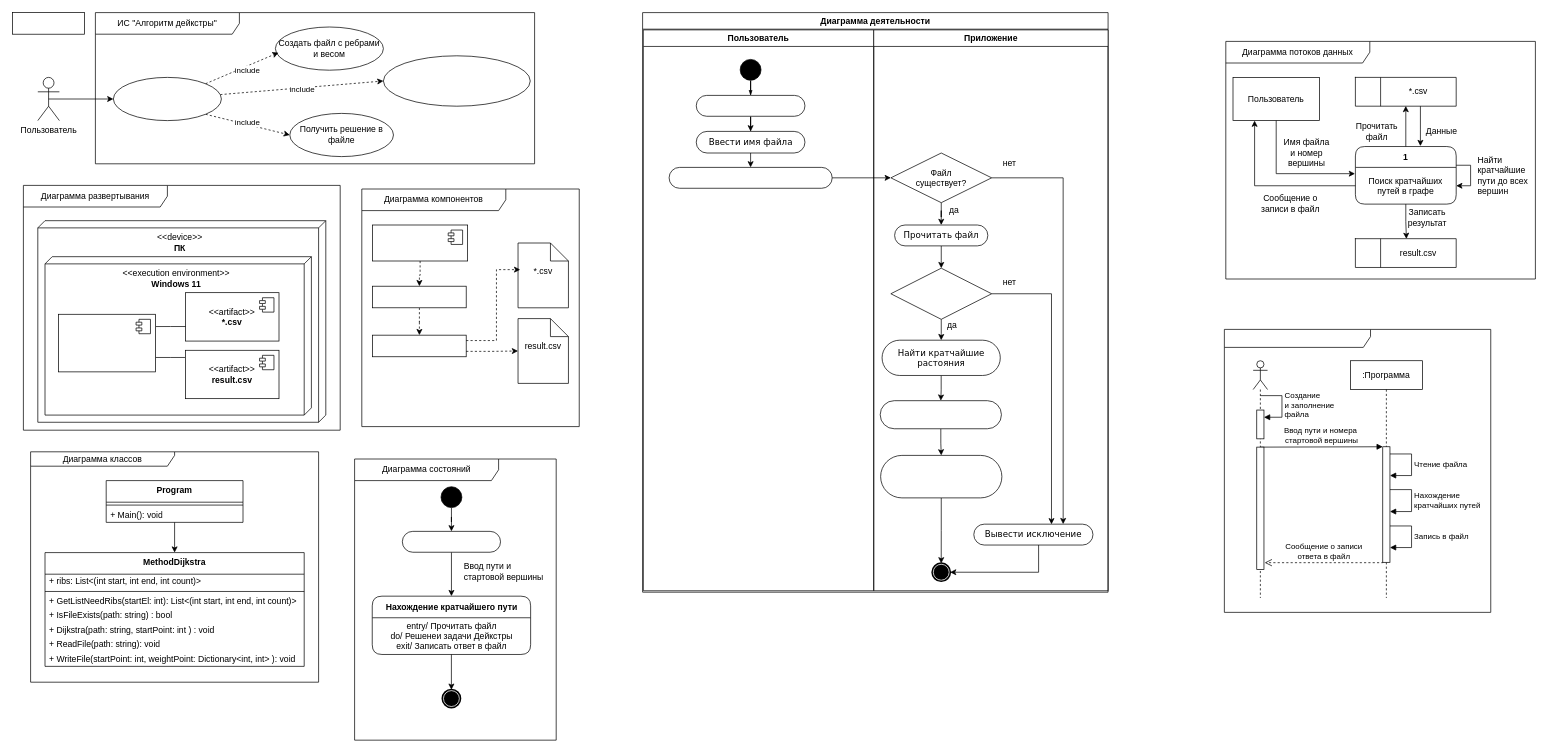
Some shapes in this 1548 by 753 pixel diagram are drawn without their labels. Here are the shapes that lost their labels. From the top down, the centre of each, then its label:
point (48, 23): Use-Case
point (167, 99): Найти кратчайшие пути в графе
point (456, 80): Ввести название файла и номер стартовой вершины
point (750, 105): Запустить программу
point (750, 177): Ввести номер стартовой вершины
point (420, 242): Dijkstra.exe
point (419, 296): class Program
point (941, 293): Данные коректны?
point (107, 343): <<artifact>> Dijkstra.exe
point (419, 345): class MethodDijkstra
point (940, 414): Записать ответ в файл
point (941, 476): Вывести сообщение, что результат записан в файл
point (1357, 470): Диаграмма последовательности
point (451, 541): Ожидание
